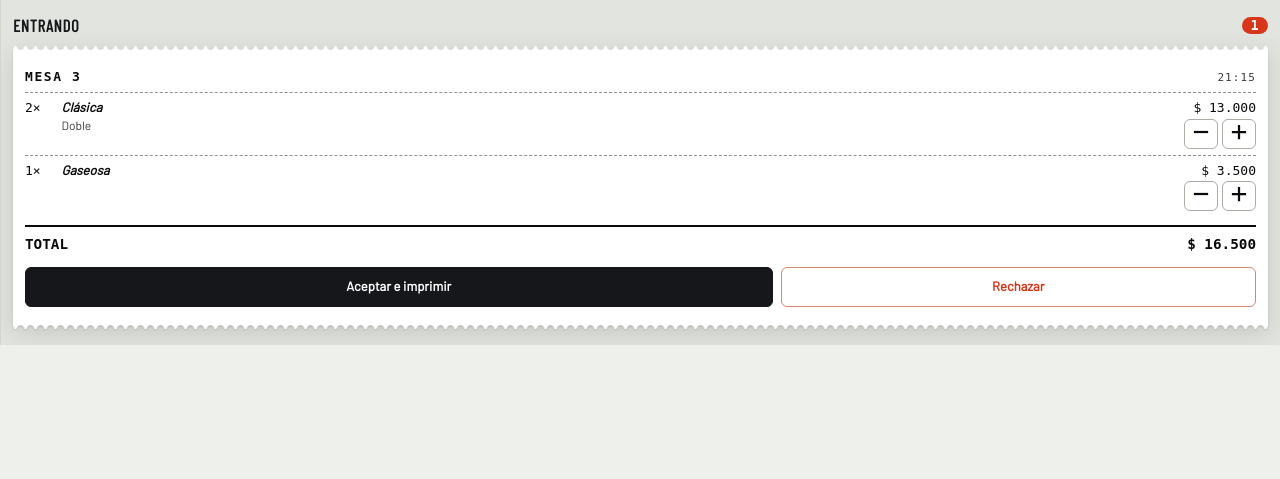
Test case: rechazar exige un motivo y ofrece sugerencias
The image size is (1280, 479).
Later steps or results of the test are not shown.
Step 1. Click the button "Rechazar" → (1018, 287), box [780, 267, 1256, 307]
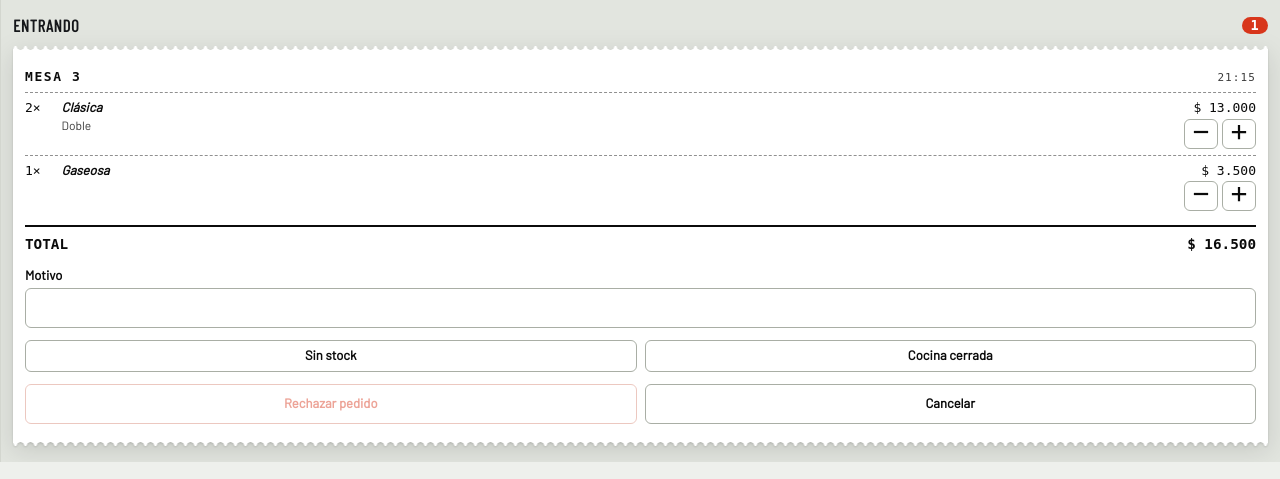
Expected: the button "Rechazar pedido" is disabled, [25, 384, 636, 424]
Step 2. Click the button "Sin stock" → (331, 356), box [25, 340, 636, 372]
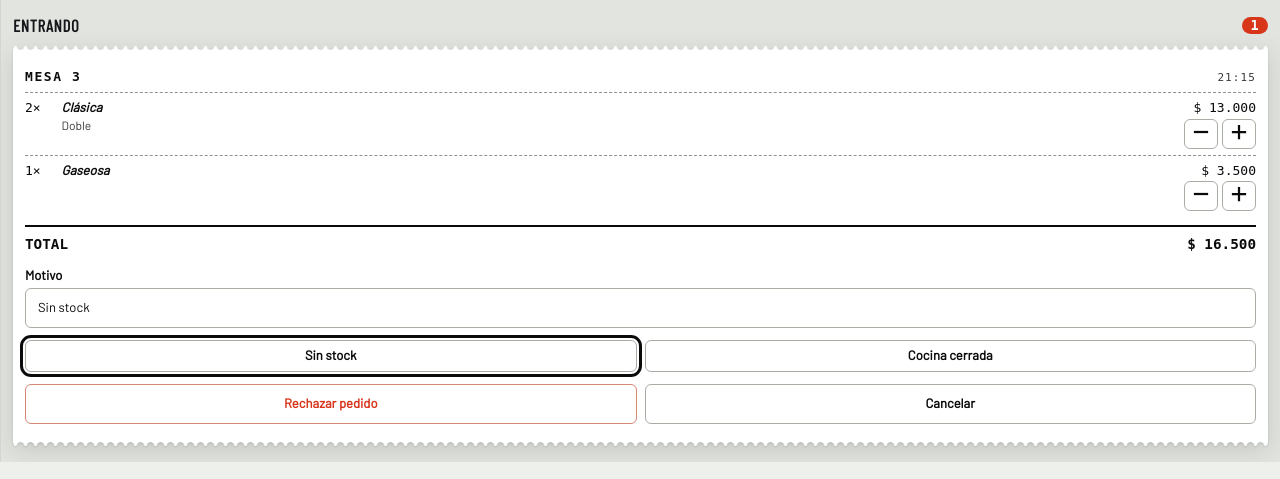
Expected: the field labelled "Motivo" holds "Sin stock", [25, 288, 1256, 328]
